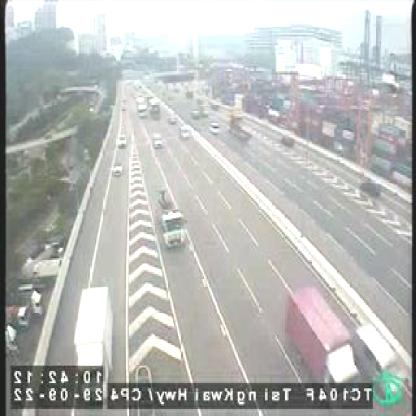Car: (352, 322, 411, 385), (360, 175, 384, 198), (182, 121, 192, 142), (117, 132, 129, 149), (155, 130, 165, 149), (113, 161, 125, 175), (169, 107, 178, 125)
Truck: (278, 282, 360, 385), (72, 286, 119, 371), (156, 182, 187, 250), (150, 93, 162, 118), (137, 95, 148, 118)
